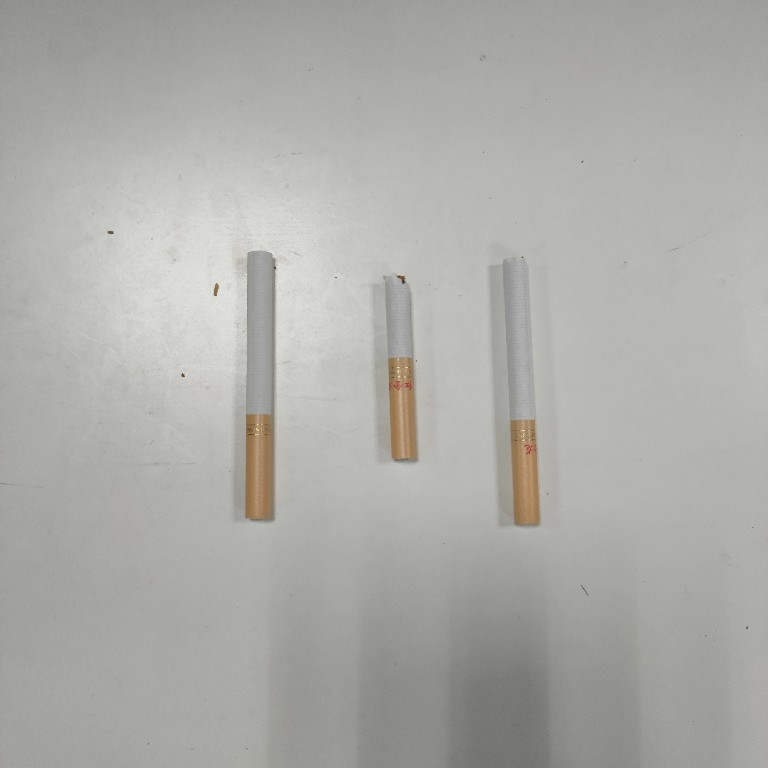cigarette: (498, 253, 542, 531), (243, 248, 281, 526), (381, 270, 421, 464)
